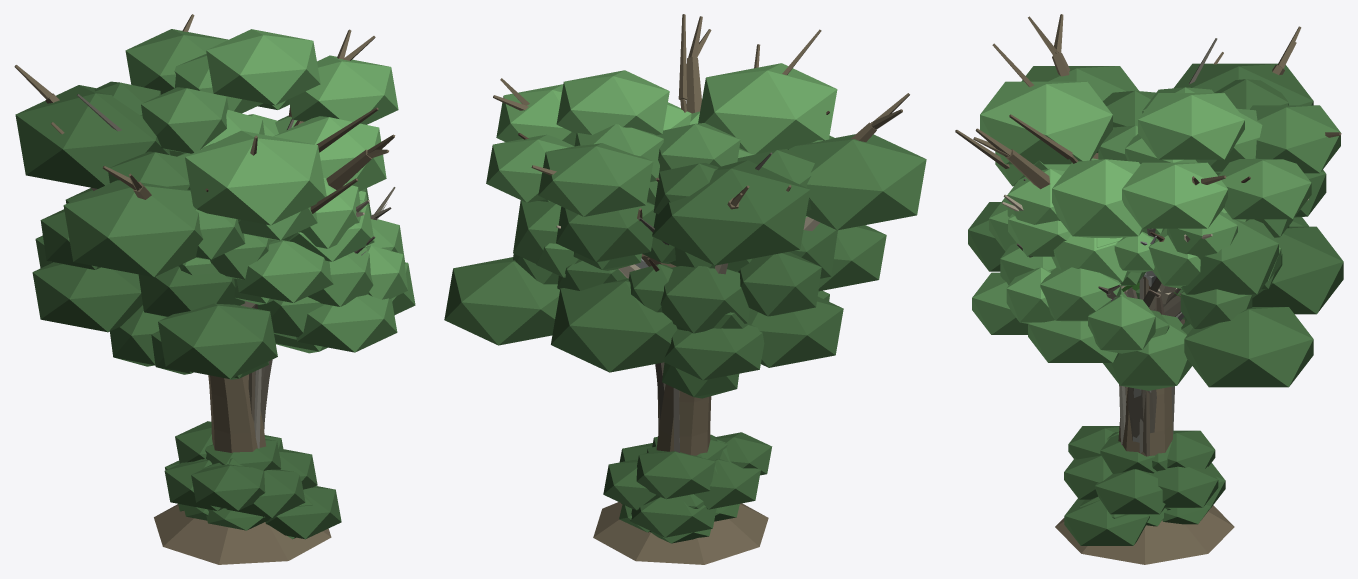
File: trees-amazonia.glb
3 renders of one model, left to right at view 1: azimuth 30°, elevation 25°; view 2: azimuth 150°, elevation 25°; view 3: azimuth 270°, elevation 25°, orthographic. The views are drawn at different scales.
Parts seen in each view (by area): view 1: sumauma, castanheira, sumauma-dead, bush-amazonia-head-b, seringueira, andiroba, bush-amazonia-waist-b, seringueira-dead; view 2: sumauma, castanheira, sumauma-dead, bush-amazonia-head-b, andiroba, seringueira, bush-amazonia-waist-b; view 3: sumauma, castanheira, seringueira, bush-amazonia-head-b, sumauma-dead, andiroba, seringueira-dead, bush-amazonia-waist-b, acai, acai-dead, bush-amazonia-head-a.
Part boxes in pixels (left/top/right/bottom): sumauma: left=15, top=29, right=415, bottom=378; castanheira: left=40, top=53, right=405, bottom=316; sumauma-dead: left=14, top=14, right=395, bottom=564; bush-amazonia-head-b: left=164, top=421, right=341, bottom=539; seringueira: left=210, top=115, right=407, bottom=376; andiroba: left=110, top=110, right=366, bottom=379; bush-amazonia-waist-b: left=178, top=504, right=295, bottom=539; seringueira-dead: left=260, top=187, right=395, bottom=429; sumauma: left=444, top=63, right=926, bottom=380; castanheira: left=513, top=102, right=837, bottom=333; sumauma-dead: left=493, top=14, right=909, bottom=564; bush-amazonia-head-b: left=603, top=432, right=772, bottom=537; andiroba: left=536, top=177, right=829, bottom=398; seringueira: left=513, top=111, right=699, bottom=312; bush-amazonia-waist-b: left=619, top=504, right=739, bottom=543; sumauma: left=968, top=63, right=1343, bottom=387; castanheira: left=995, top=79, right=1326, bottom=321; seringueira: left=1006, top=168, right=1289, bottom=442; bush-amazonia-head-b: left=1064, top=426, right=1225, bottom=545; sumauma-dead: left=955, top=14, right=1341, bottom=564; andiroba: left=1051, top=134, right=1293, bottom=390; seringueira-dead: left=1016, top=243, right=1181, bottom=440; bush-amazonia-waist-b: left=1146, top=505, right=1210, bottom=526; acai: left=1119, top=276, right=1174, bottom=453; acai-dead: left=1125, top=275, right=1149, bottom=456; bush-amazonia-head-a: left=1079, top=432, right=1194, bottom=518.
Size of the model in its own units: 7.75 by 9 by 6.99.
